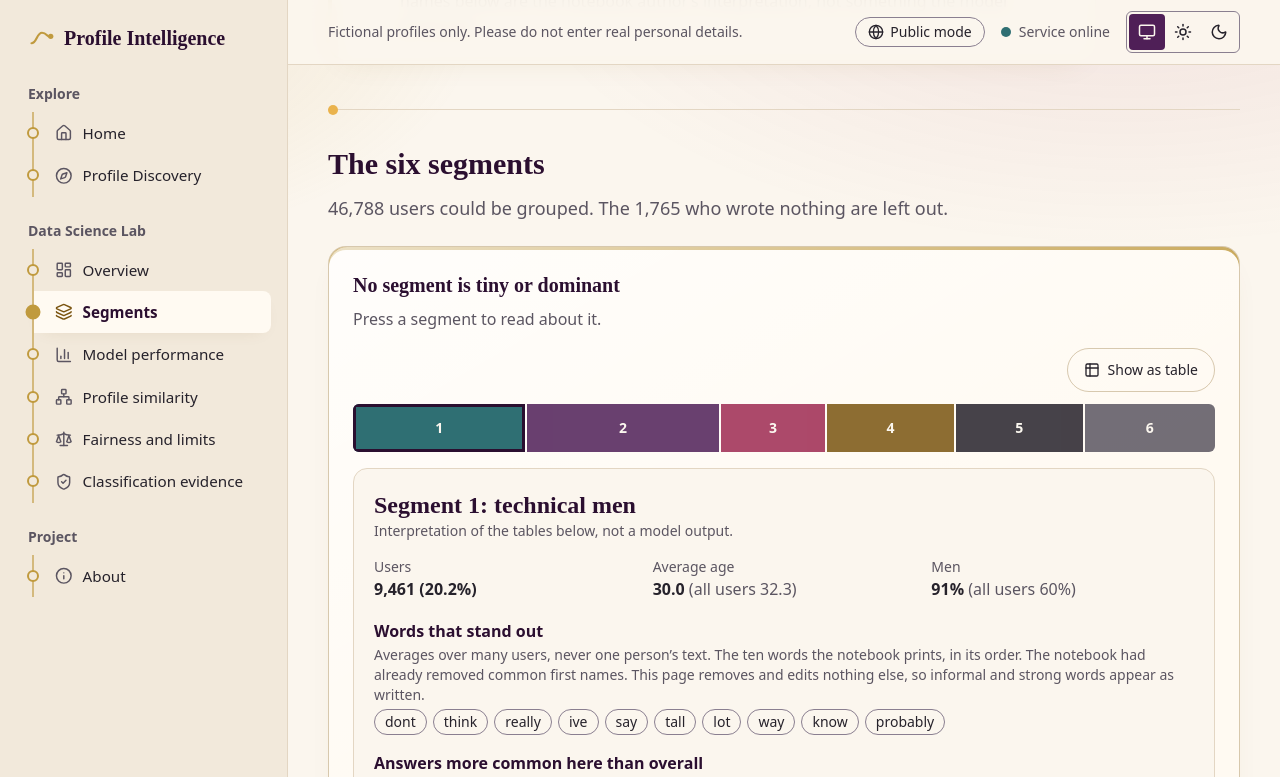
Test: chart data › picking a segment changes the card, using only aggregates
The image size is (1280, 777).
(page scrolled)
Expected: the element with test id "segment-card" shows "technical men", [494,492,636,518]
Click the button named "Segment 6, older professionals". click: point(1150, 428)
box: [1085,404,1215,452]
(page scrolled)
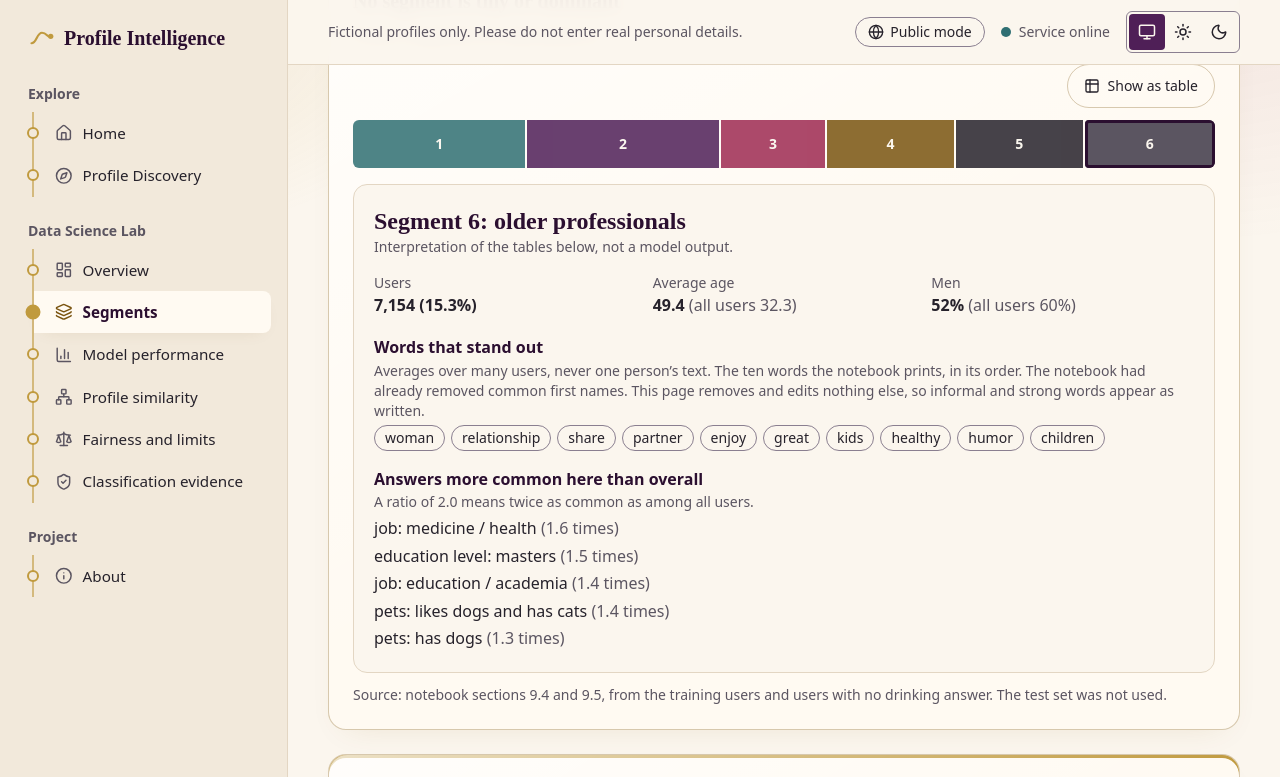
Expected: the element with test id "segment-card" shows "Averages over many users, never one person", [374,360,1174,420]
Expected: the element with test id "segment-card" shows "older professionals", [494,208,686,234]
Expected: the element with test id "segment-card" shows "49.4", [653,294,685,316]
